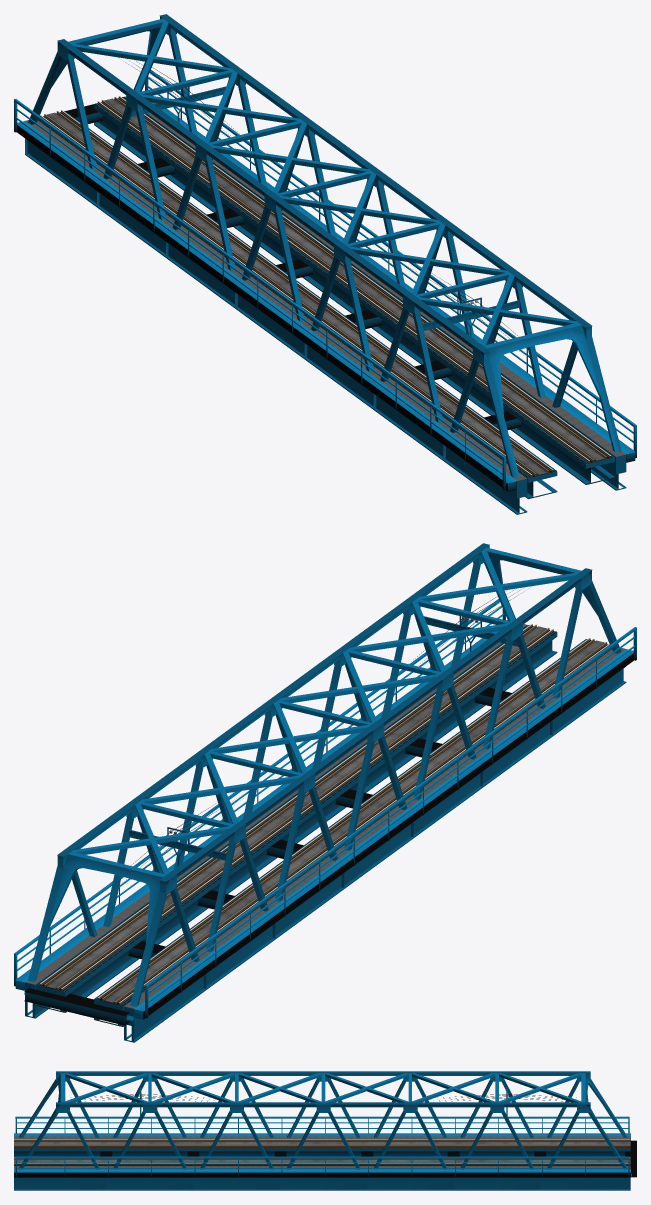
File: KQ_2RAIL_ROKUGOUKYORYO.glb
3 renders of one model, top to bottom at view 1: azimuth 30°, elevation 25°; view 2: azimuth 150°, elevation 25°; view 3: azimuth 270°, elevation 25°, orthographic. The views are drawn at different scales.
Parts seen in each view (by area): view 1: obj19; view 2: obj19; view 3: obj19.
Part boxes in pixels (bbox=[...]): obj19: bbox=[14, 14, 636, 514]; obj19: bbox=[14, 543, 636, 1042]; obj19: bbox=[14, 1071, 636, 1190].
Size of the model in its own units: 29.97 by 29.6 by 194.
Materials: 8 (8 with a texture image).
